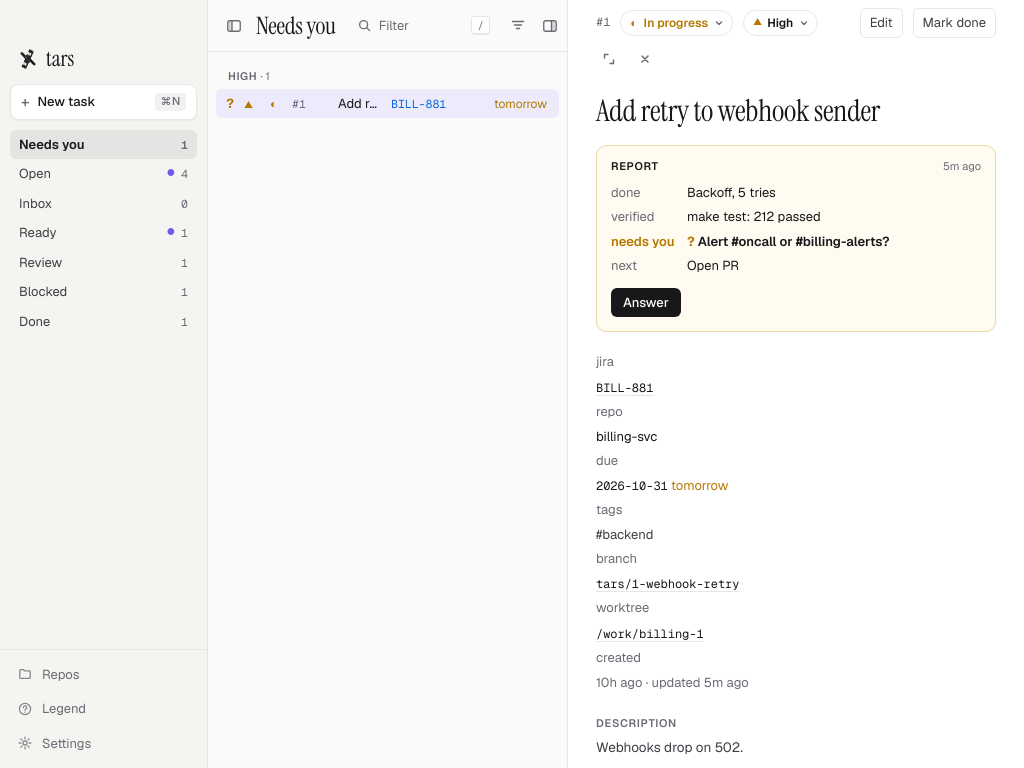
editing › changes priority from the picker and undoes it with u
This screenshot has width=1024, height=768.
Expected: the navigation bar named "Views" is shown, [0,0,208,767]
Expected: the text "Backoff, 5 tries" is shown, [687,184,776,201]
Click the button with aria-label "Priority: High".
click(781, 23)  # box [743,10,818,36]
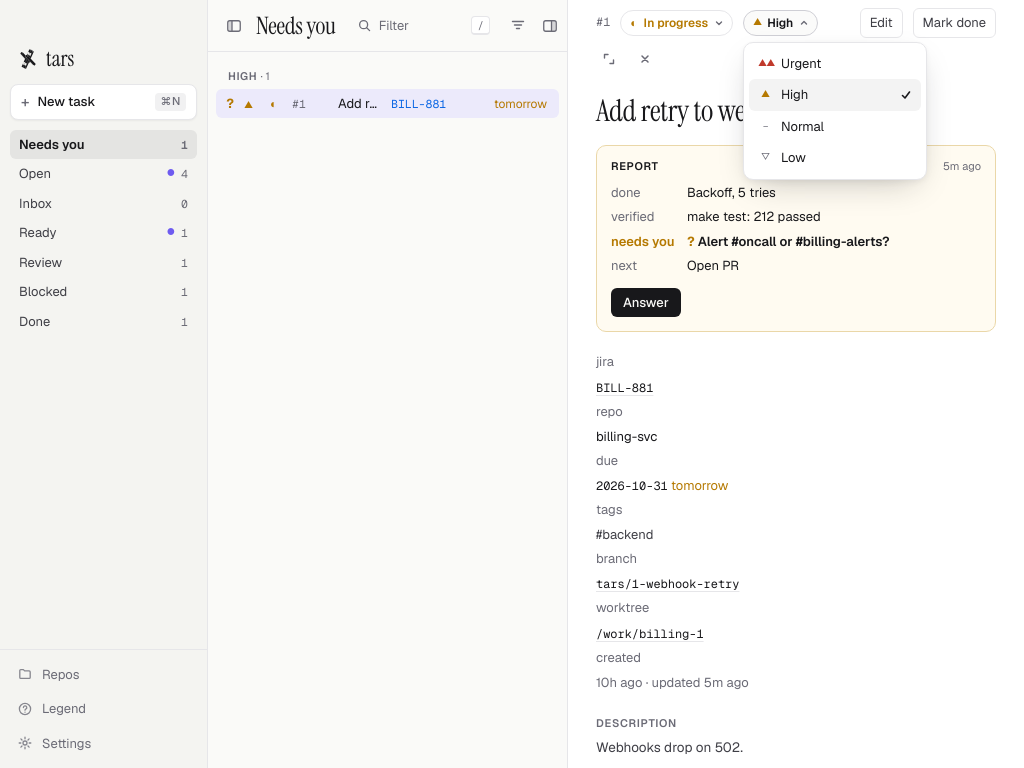
Click the option "▲▲ Urgent".
click(790, 63)  # box [758,55,821,72]
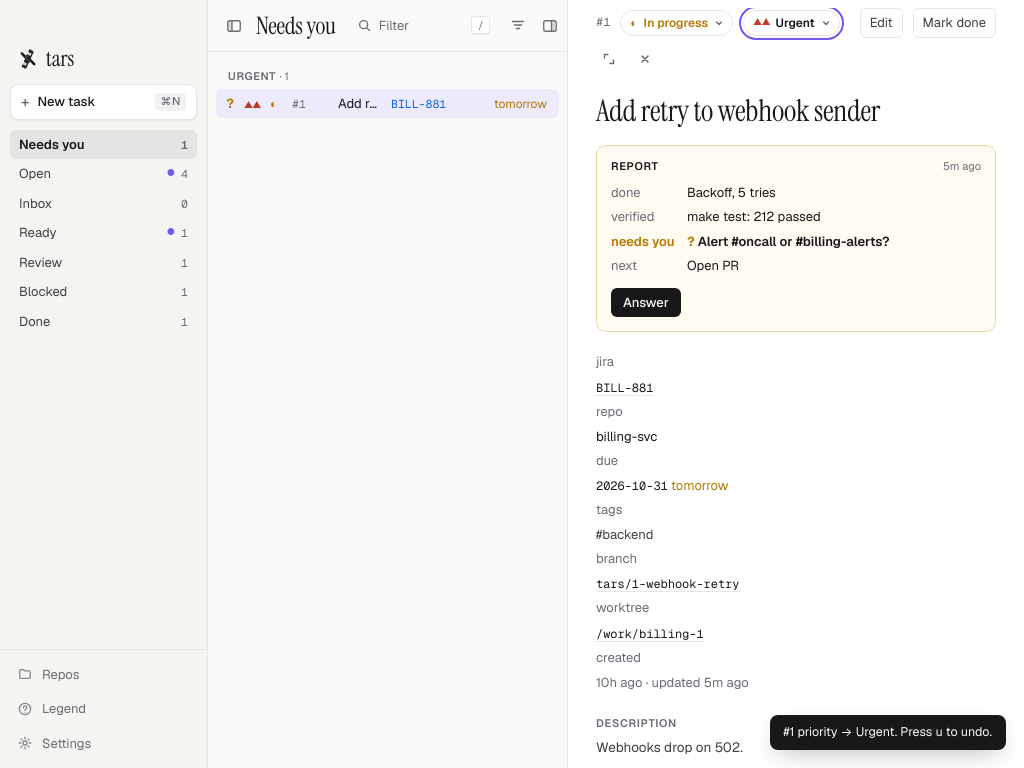
Expected: the button with aria-label "Priority: Urgent" is shown, [743,10,840,36]
Type keys "u"
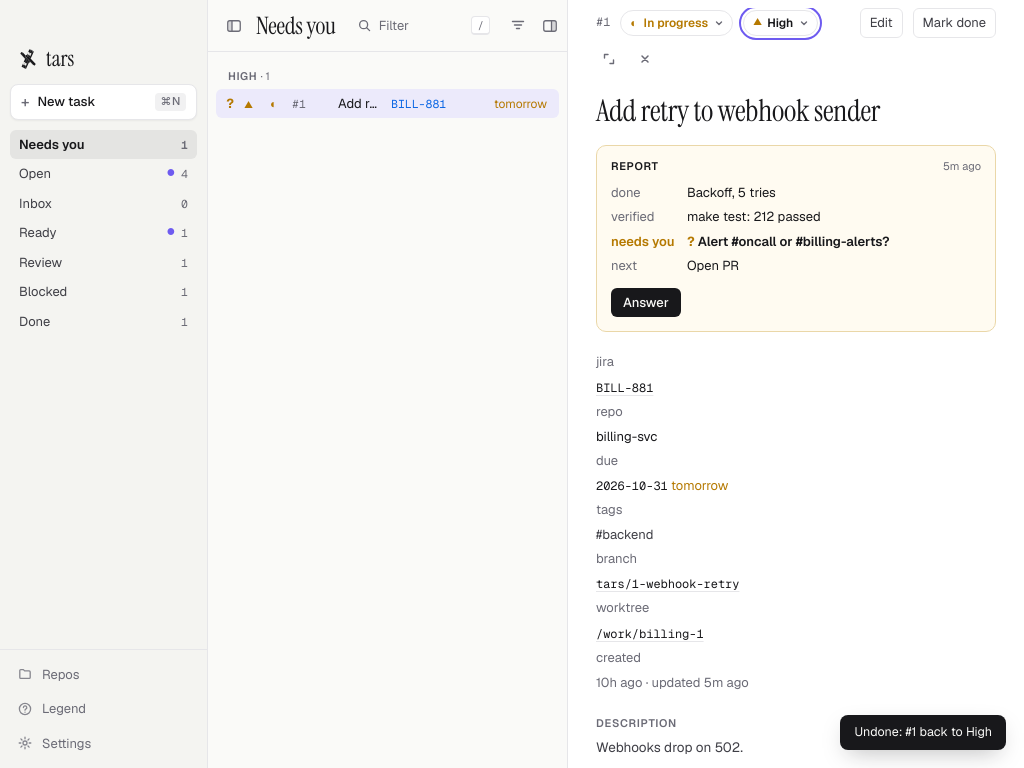
Expected: the button with aria-label "Priority: High" is shown, [743,10,818,36]
